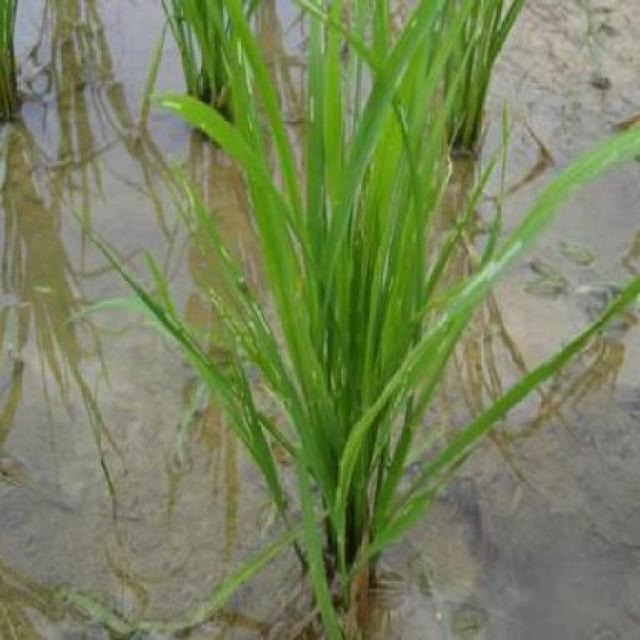rice-bug: (234, 275, 254, 302)
